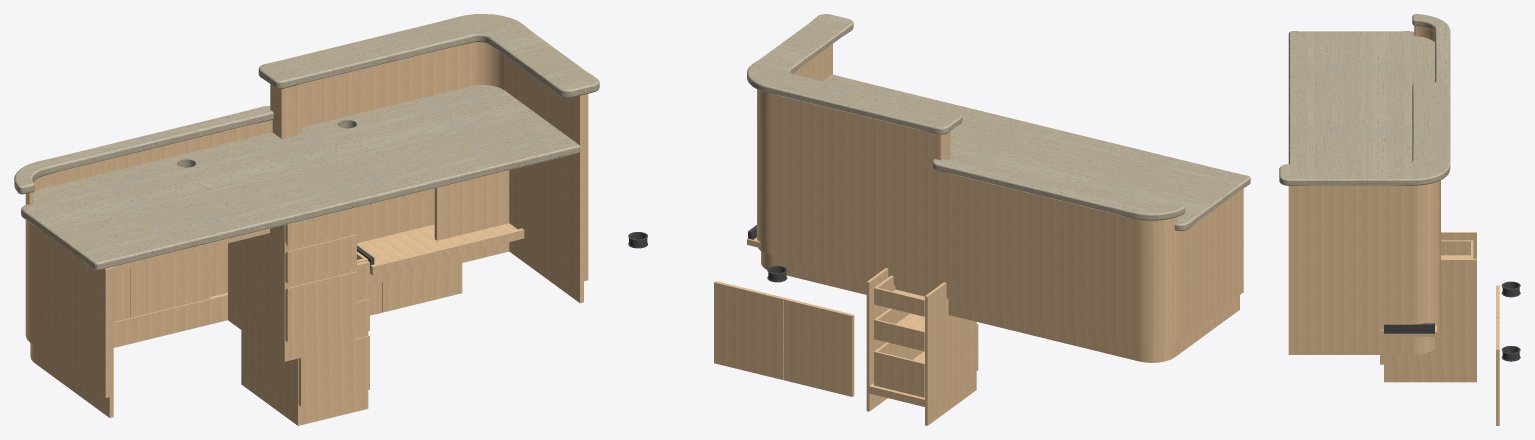
File: SNCTR-09A.FBX
The picture shows the model from 3 angles, left to right: view 1: azimuth 30°, elevation 25°; view 2: azimuth 150°, elevation 25°; view 3: azimuth 270°, elevation 25°; orthographic projection. The views are drawn at different scales.
Parts seen in each view (by area): view 1: Casework-Sunray_NCTR-11A_Countertop Casework-Sunray_NCTR-11A, Joined Solid Geometry [7518], CSW-Sunray_pedestal pedestal_530mm [35441], CSW-Sunray_pedestal pedestal_530mm [35208], Joined Solid Geometry [22152], CSW_Sunray_Cabinet_Magnetic-Door_Dbl CSW_Sunray_Cabinet_Door (×2), Casework-Sunray_Keyboard Casework-Sunray_Keyboard [37458], Casework-Sunray_Keyboard Casework-Sunray_Keyboard [43126]; view 2: Joined Solid Geometry [7518], Casework-Sunray_NCTR-11A_Countertop Casework-Sunray_NCTR-11A, CSW-Sunray_pedestal pedestal_530mm [35208], CSW_Sunray_Cabinet_Magnetic-Door_Dbl CSW_Sunray_Cabinet_Door; view 3: Casework-Sunray_NCTR-11A_Countertop Casework-Sunray_NCTR-11A, Joined Solid Geometry [7518], CSW-Sunray_pedestal pedestal_530mm [35208], Casework-Sunray_Keyboard Casework-Sunray_Keyboard [37458], CSW_Sunray_Cabinet_Magnetic-Door_Dbl CSW_Sunray_Cabinet_Door, Generic-Sunray_Grommet void_Countertop Generic-Sunray_Gromme (×2).
Part boxes in pixels (x1,y1,x2,y2): Casework-Sunray_NCTR-11A_Countertop Casework-Sunray_NCTR-11A: (14,14,599,270); Joined Solid Geometry [7518]: (25,42,588,417); CSW-Sunray_pedestal pedestal_530mm [35441]: (228,207,356,361); CSW-Sunray_pedestal pedestal_530mm [35208]: (241,251,369,425); Joined Solid Geometry [22152]: (113,170,509,347); CSW_Sunray_Cabinet_Magnetic-Door_Dbl CSW_Sunray_Cabinet_Door (×2): (113,248,462,321); Casework-Sunray_Keyboard Casework-Sunray_Keyboard [37458]: (357,223,524,275); Casework-Sunray_Keyboard Casework-Sunray_Keyboard [43126]: (113,228,269,270); Joined Solid Geometry [7518]: (757,44,1243,362); Casework-Sunray_NCTR-11A_Countertop Casework-Sunray_NCTR-11A: (747,14,1250,231); CSW-Sunray_pedestal pedestal_530mm [35208]: (866,268,978,425); CSW_Sunray_Cabinet_Magnetic-Door_Dbl CSW_Sunray_Cabinet_Door: (714,281,854,396); Casework-Sunray_NCTR-11A_Countertop Casework-Sunray_NCTR-11A: (1279,14,1450,185); Joined Solid Geometry [7518]: (1288,26,1440,354); CSW-Sunray_pedestal pedestal_530mm [35208]: (1380,232,1476,382); Casework-Sunray_Keyboard Casework-Sunray_Keyboard [37458]: (1380,323,1436,336); CSW_Sunray_Cabinet_Magnetic-Door_Dbl CSW_Sunray_Cabinet_Door: (1496,285,1499,425); Generic-Sunray_Grommet void_Countertop Generic-Sunray_Gromme (×2): (1501,281,1520,361).
Size of the model in its own units: 114 by 62.01 by 50.
Materials: 4 (3 with a texture image).
